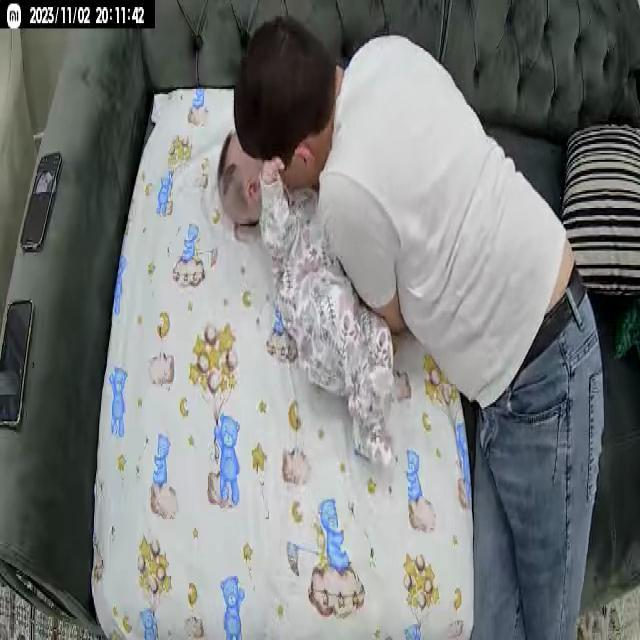baby: (214, 132, 408, 466)
